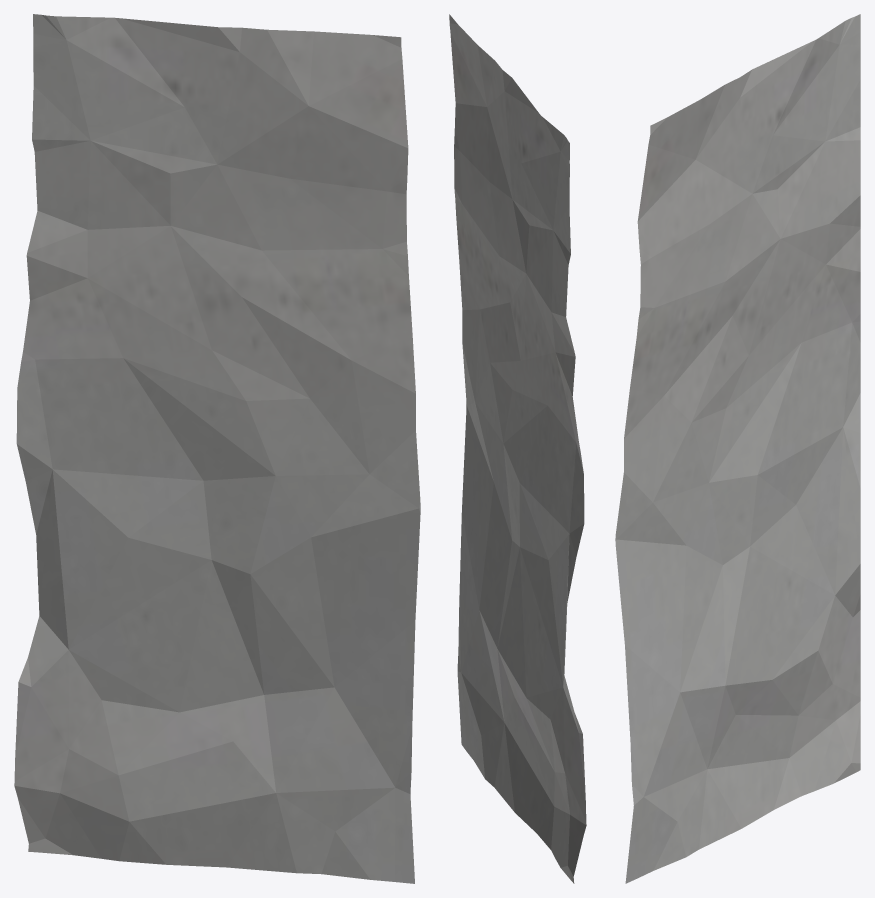
3 views of the same model, side by side, from view 1: azimuth 30°, elevation 25°; view 2: azimuth 150°, elevation 25°; view 3: azimuth 270°, elevation 25° (orthographic). The views are drawn at different scales.
Bounding box in the file's own units: 0.2839 × 0.8374 × 0.2453.
1 material, 1 textured.
